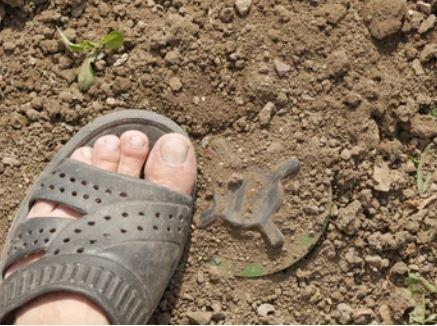pmn: (198, 112, 338, 282)
